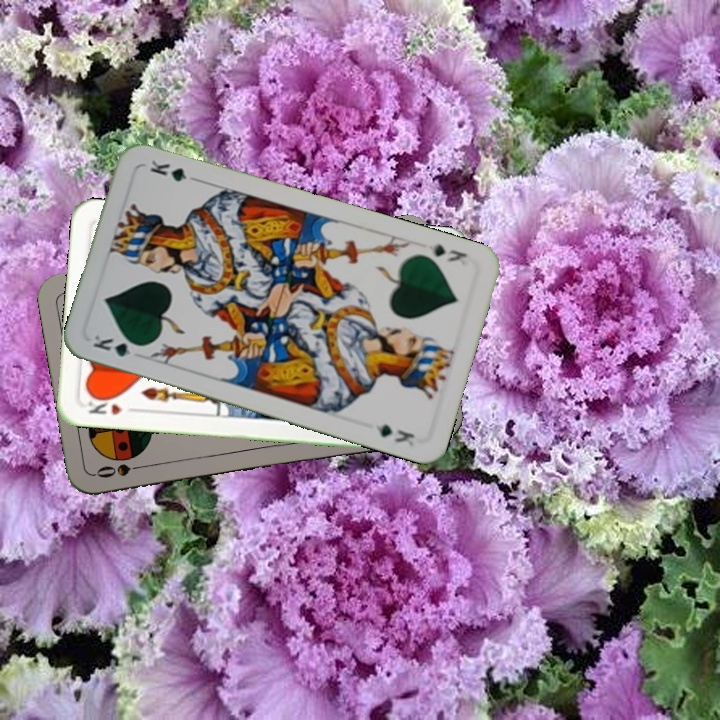GK: (89, 330, 147, 360), (424, 240, 470, 265)
HK: (84, 392, 140, 418)
SO: (92, 460, 151, 481)
